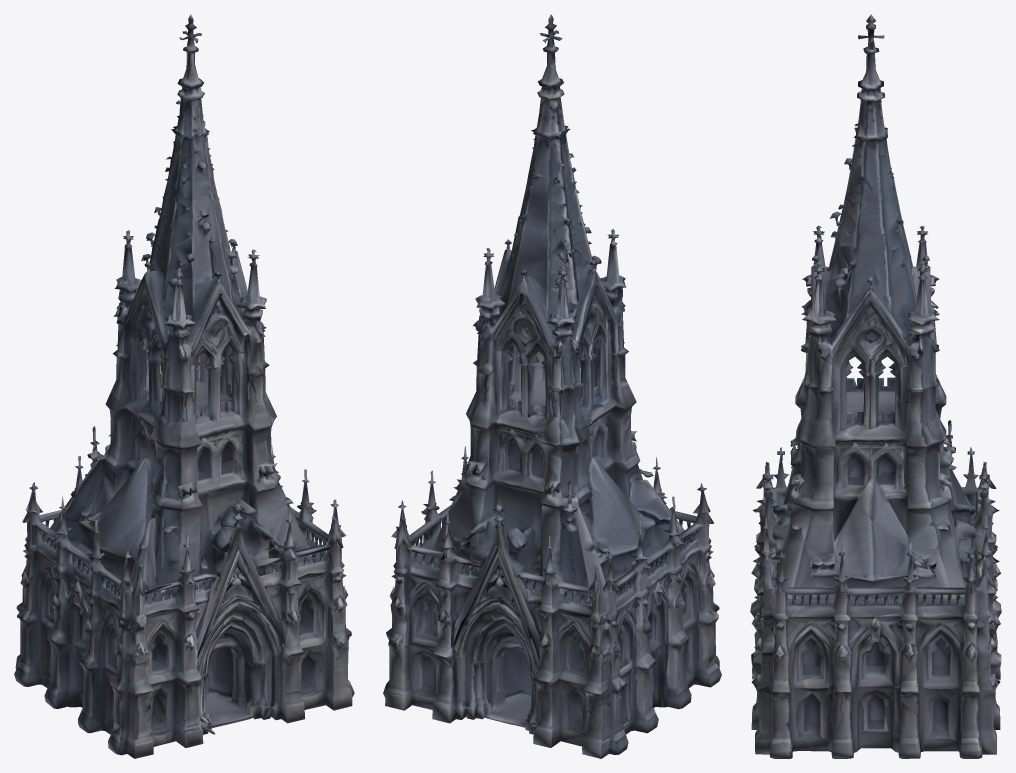
Rendered from bld_goth_belltower.fbx.
3 renders of one model, left to right at view 1: azimuth 30°, elevation 25°; view 2: azimuth 150°, elevation 25°; view 3: azimuth 270°, elevation 25°, orthographic. The views are drawn at different scales.
Visible parts, largest first — view 1: bld_goth_belltower_LOD0; view 2: bld_goth_belltower_LOD0; view 3: bld_goth_belltower_LOD0.
Boxes of the visible parts, bbox=[...] form: bld_goth_belltower_LOD0: bbox=[14, 14, 354, 758]; bld_goth_belltower_LOD0: bbox=[383, 14, 721, 758]; bld_goth_belltower_LOD0: bbox=[750, 14, 1001, 758].
Size of what is drawn, in the model's own units: 0.3591 by 0.9834 by 0.3248.
